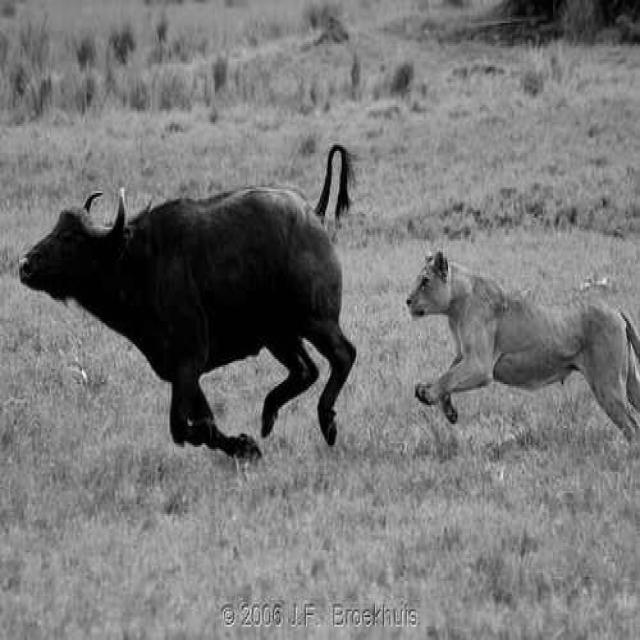Lion: (388, 227, 640, 468)
